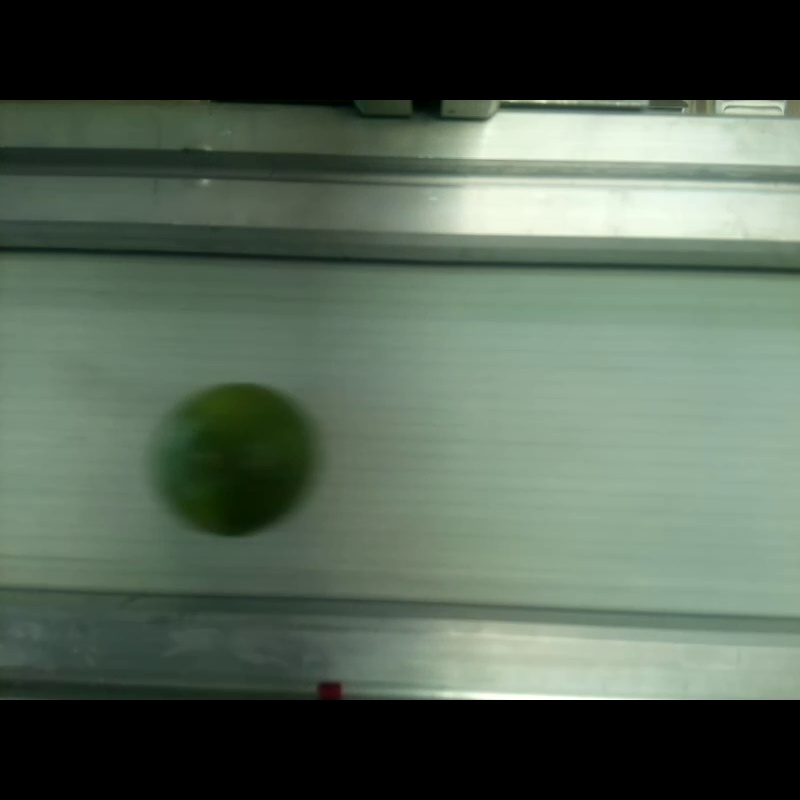lime: (157, 384, 310, 536)
